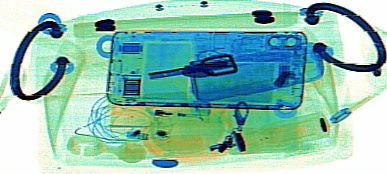lighter: (107, 98, 211, 127)
